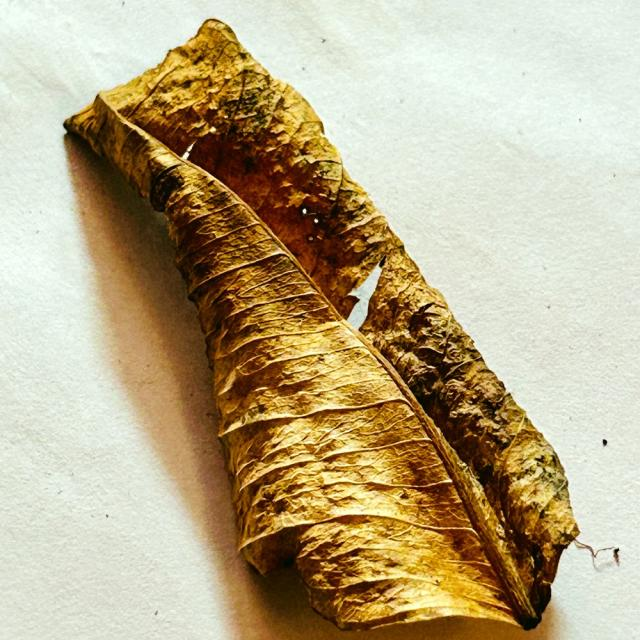DryLeaf_Lemon: (64, 20, 578, 629)
